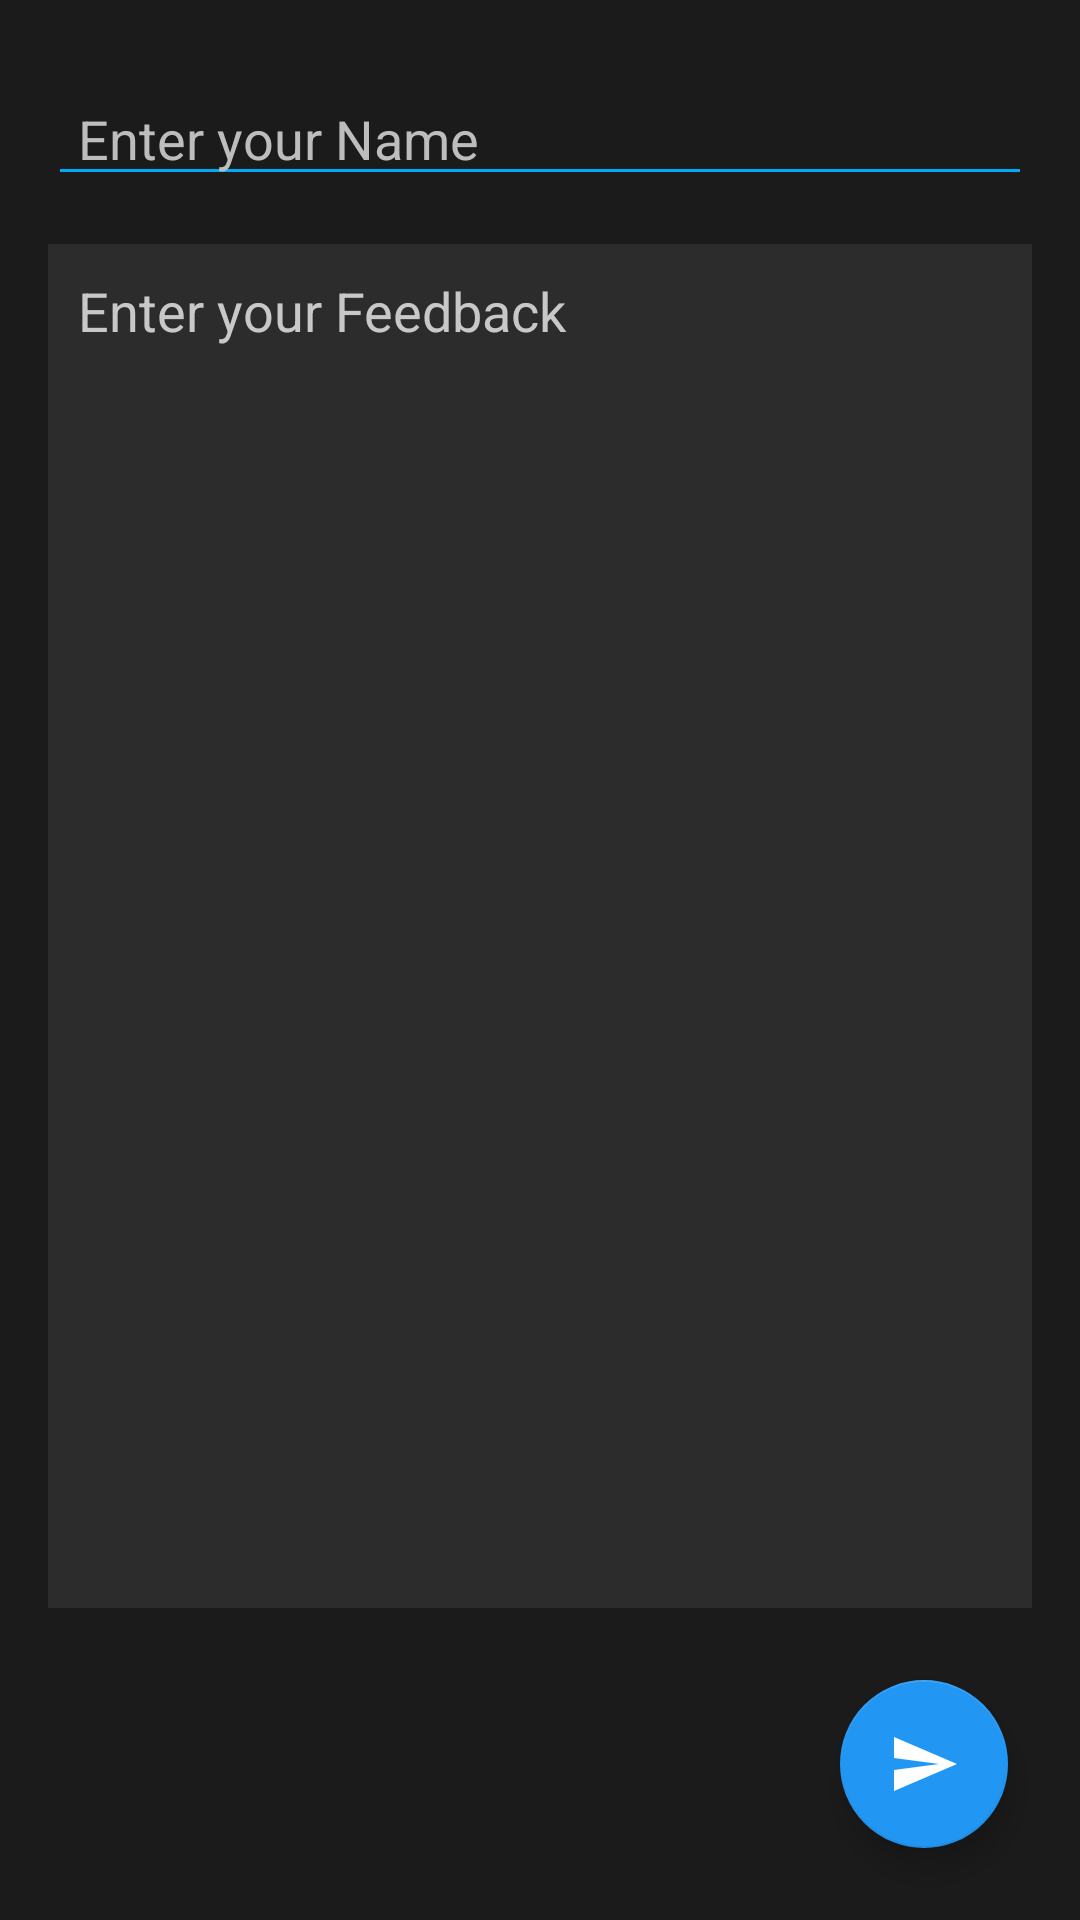

Locate icon controls on the screen. Image size 1080×1920, boxes as region(x1, y1, x2, y2).
send: region(840, 1680, 1008, 1848)
